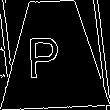P_N: (36, 28, 71, 80)
